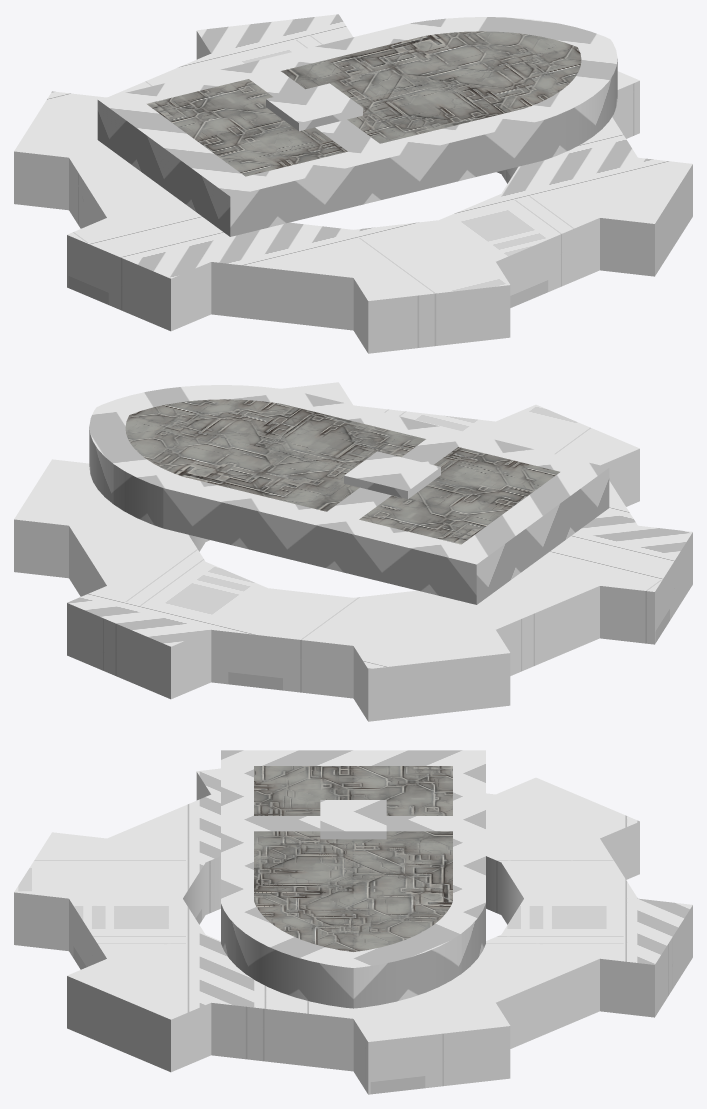
The model's file is shield_coll.obj.
The picture shows the model from 3 angles, top to bottom: view 1: azimuth 30°, elevation 25°; view 2: azimuth 150°, elevation 25°; view 3: azimuth 270°, elevation 25°; orthographic projection.
Parts seen in each view (by area): view 1: mergedBlocks; view 2: mergedBlocks; view 3: mergedBlocks.
Boxes of the visible parts, x1=… form: mergedBlocks: x1=14, y1=14, x2=692, y2=353; mergedBlocks: x1=14, y1=382, x2=692, y2=721; mergedBlocks: x1=14, y1=750, x2=692, y2=1094.
Bounding box in the file's own units: 1.55 × 0.2938 × 1.55.
3 materials, 3 textured.
